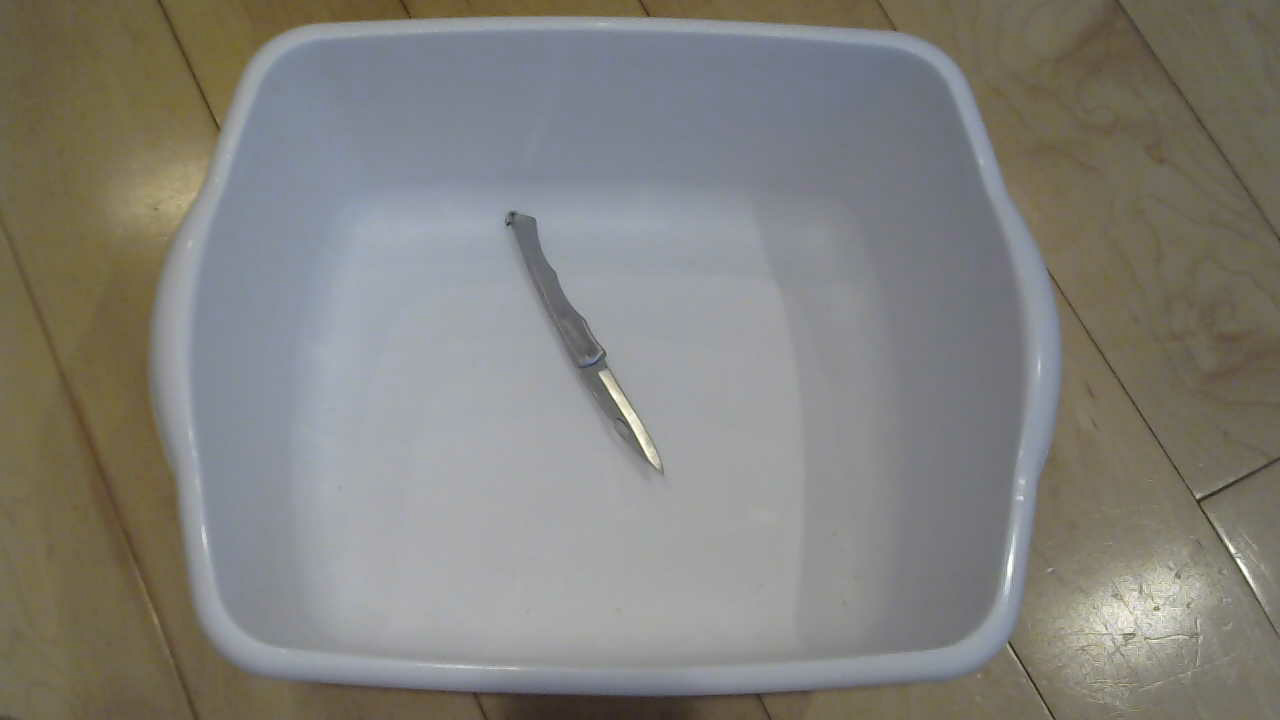knife: (448, 214, 694, 482)
